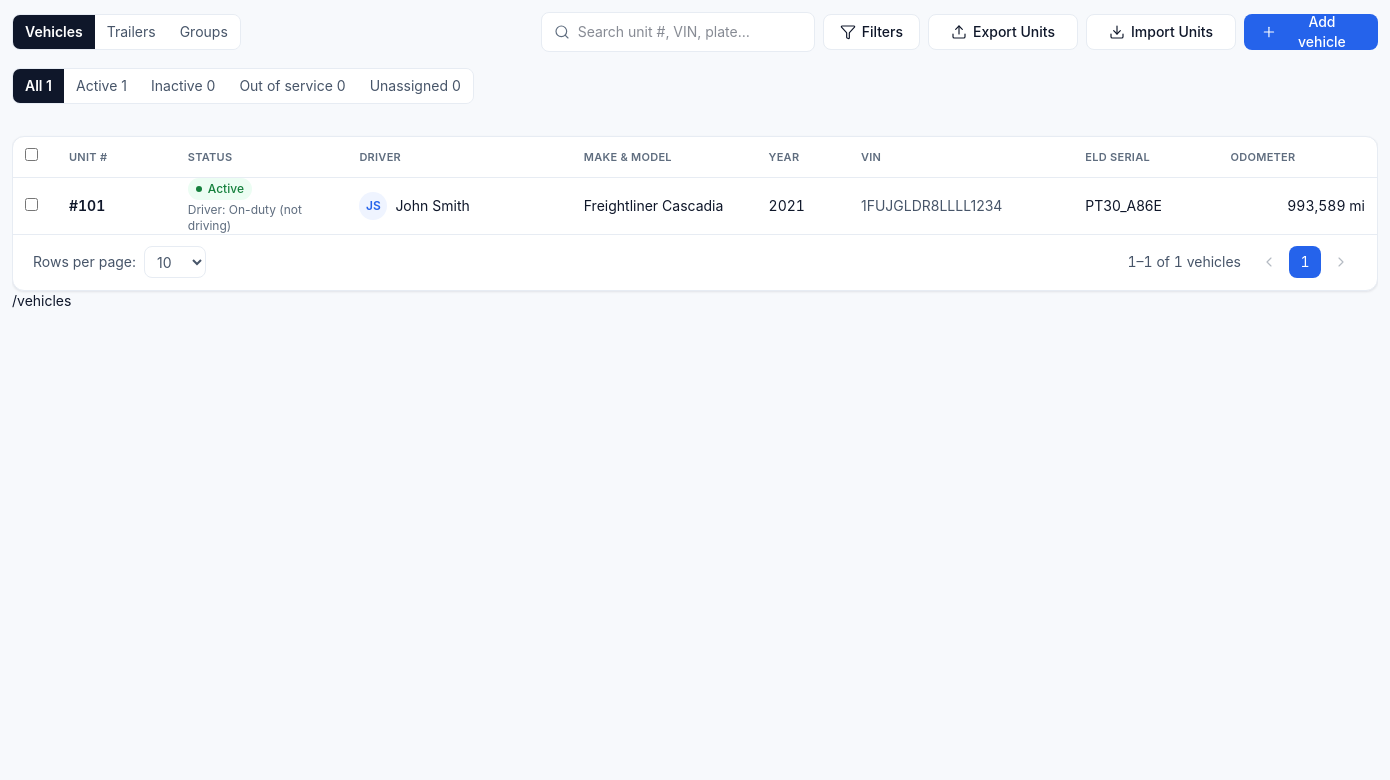
Test: W-03 Vehicles › B-71 shipped — a failing bulk "Set inactive" reports the failure instead of claiming success
The image size is (1390, 780).
Expected: the text "#101" is shown, [69,196,105,214]
Click the checkbox named "Select row". click: (32, 204)
box: [25,198,38,210]
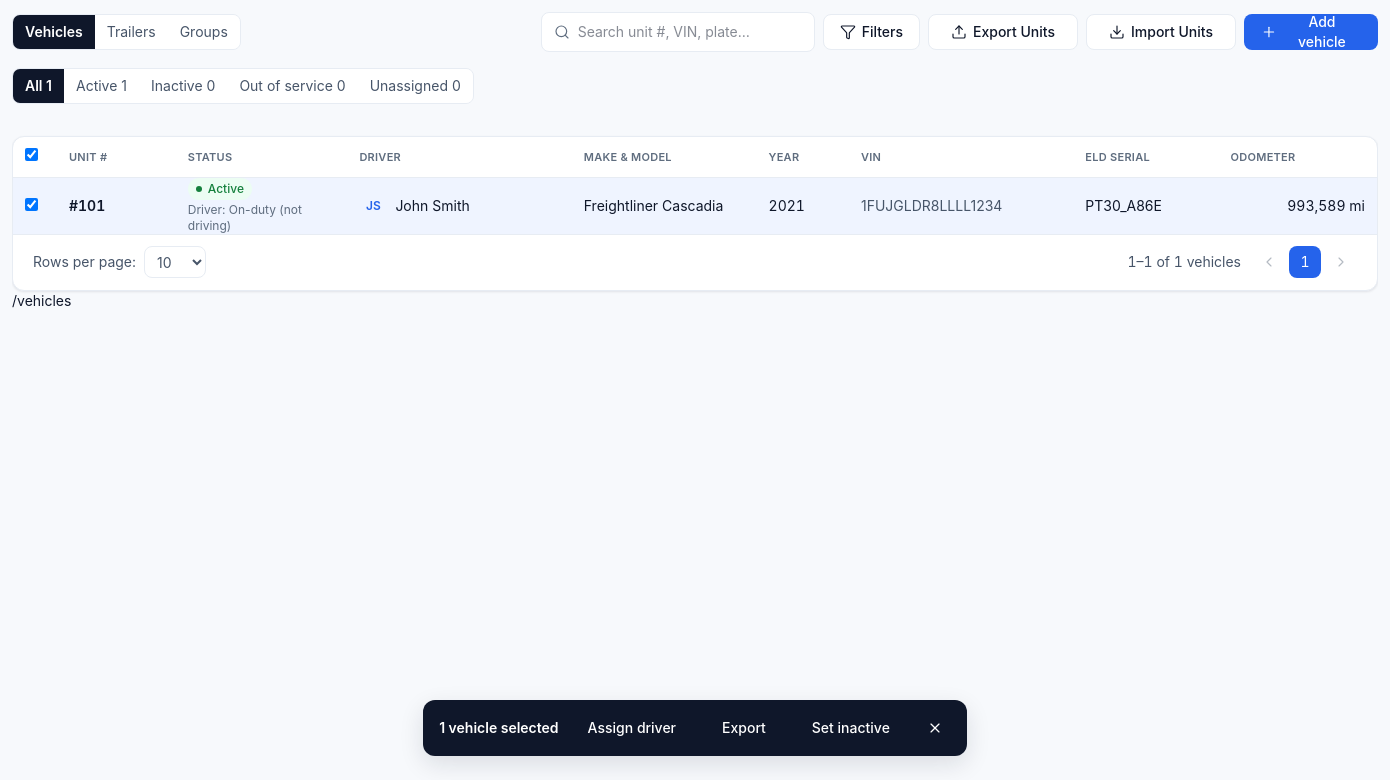
Click the button "Set inactive". click: (851, 728)
box: [795,710,907,746]
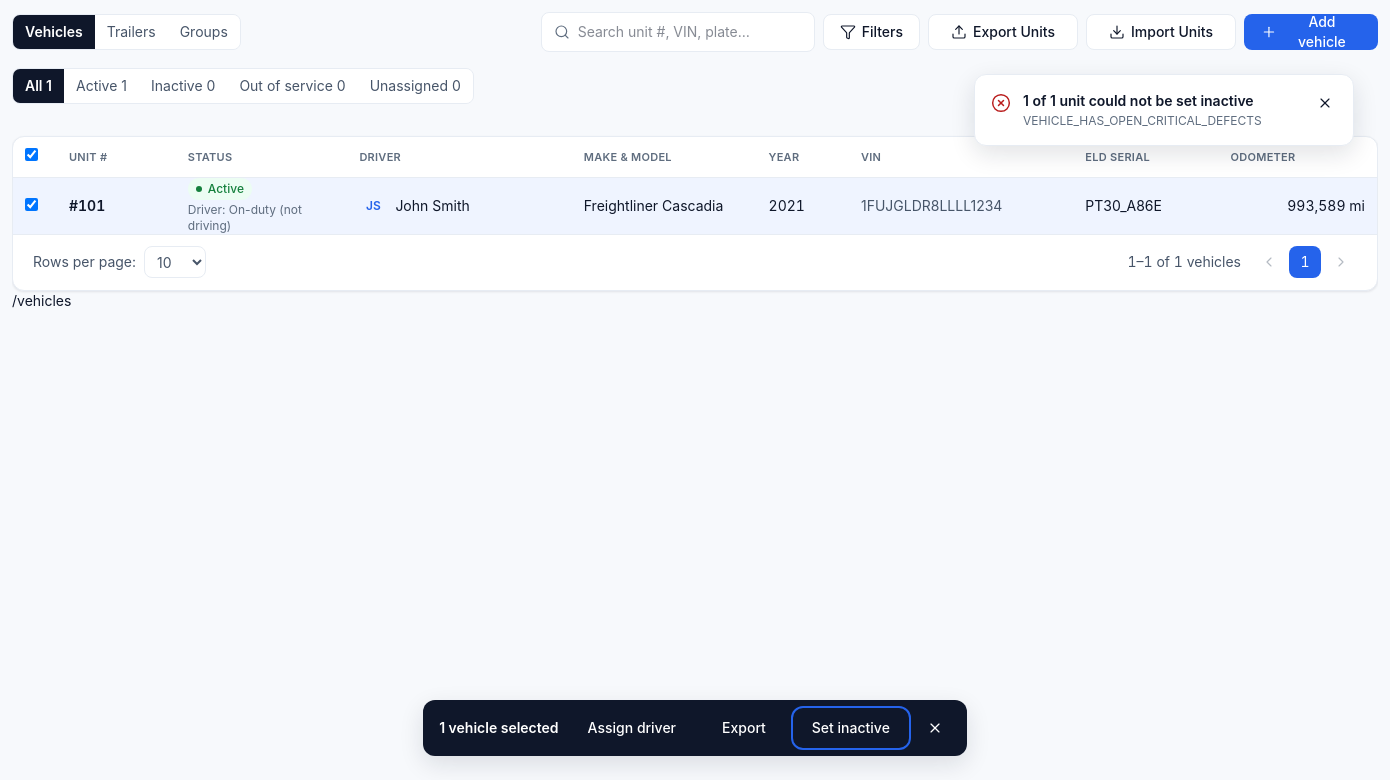
Result: the text "1 of 1 unit could not be set inactive" is shown at [1023,92,1254,109]
